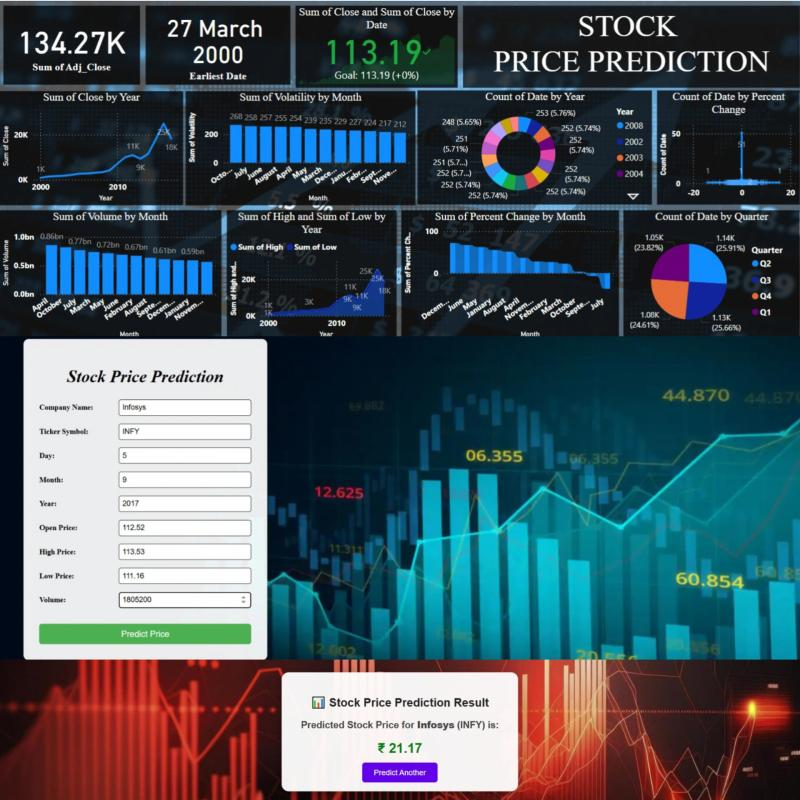

What the dashboard file says about the page in this screenshot:
{"tool":"powerbi","page":{"name":"Page 1","canvas":[1280,720],"ordinal":0},"visuals":[{"type":"lineChart","fields":{"Category":["EW-MAX.Date.Variation.Date Hierarchy.Year","EW-MAX.Date.Variation.Date Hierarchy.Quarter","EW-MAX.Date.Variation.Date Hierarchy.Month","EW-MAX.Date.Variation.Date Hierarchy.Day"],"Y":["Sum(EW-MAX.Close)"]},"box":[8.8,145.1,289.2,179.2],"z":0},{"type":"areaChart","fields":{"Category":["EW-MAX.Date.Variation.Date Hierarchy.Year","EW-MAX.Date.Variation.Date Hierarchy.Quarter","EW-MAX.Date.Variation.Date Hierarchy.Month","EW-MAX.Date.Variation.Date Hierarchy.Day"],"Y":["Sum(EW-MAX.High)","Sum(EW-MAX.Low)"]},"box":[366.2,332.1,266.1,205.6],"z":1000},{"type":"columnChart","fields":{"Category":["EW-MAX.Month"],"Y":["Sum(EW-MAX.Volume)"]},"box":[8.3,332.1,348.8,206],"z":2000},{"type":"donutChart","fields":{"Category":["EW-MAX.Year"],"Y":["CountNonNull(EW-MAX.Date)"]},"box":[665.2,144,368.4,179.2],"z":3000},{"type":"waterfallChart","fields":{"Category":["EW-MAX.Date.Variation.Date Hierarchy.Year","EW-MAX.Date.Variation.Date Hierarchy.Quarter","EW-MAX.Date.Variation.Date Hierarchy.Month","EW-MAX.Date.Variation.Date Hierarchy.Day"],"Y":["Sum(EW-MAX.Daily Change)"]},"box":[323.8,548.8,316.7,161.9],"z":4000},{"type":"lineChart","fields":{"Category":["EW-MAX.Percent Change"],"Y":["CountNonNull(EW-MAX.Date)"]},"box":[1041.3,144,224.3,179.2],"z":5000},{"type":"clusteredColumnChart","fields":{"Category":["EW-MAX.Close"],"Y":["CountNonNull(EW-MAX.Weekday)"]},"box":[8.3,548.8,304.8,161.9],"z":6000},{"type":"ribbonChart","fields":{"Category":["EW-MAX.Month"],"Y":["Sum(EW-MAX.Percent Change)"]},"box":[640,332.1,342,205.6],"z":7000},{"type":"pieChart","fields":{"Category":["EW-MAX.Quarter"],"Y":["CountNonNull(EW-MAX.Date)"]},"box":[988.5,332.1,277.1,205.6],"z":8000},{"type":"columnChart","fields":{"Category":["EW-MAX.Month"],"Y":["Sum(EW-MAX.Volatility)"]},"box":[301.3,145.1,360.7,179.2],"z":9000},{"type":"gauge","fields":{"Y":["Sum(EW-MAX.Volatility)"]},"box":[652.4,548.8,235.7,161.9],"z":10000},{"type":"scatterChart","fields":{"Category":["EW-MAX.Date.Variation.Date Hierarchy.Year","EW-MAX.Date.Variation.Date Hierarchy.Quarter","EW-MAX.Date.Variation.Date Hierarchy.Month","EW-MAX.Date.Variation.Date Hierarchy.Day"],"X":["Sum(EW-MAX.Percent Change)"]},"box":[896.2,548.7,183.6,161.6],"z":11000},{"type":"card","fields":{"Values":["Sum(EW-MAX.Adj_Close)"]},"box":[15.5,10.7,214.3,123.8],"z":12000},{"type":"card","fields":{"Values":["Min(EW-MAX.Date)"]},"box":[238.1,10.7,227.4,123.8],"z":13000},{"type":"kpi","fields":{"Indicator":["Sum(EW-MAX.Close)"],"TrendLine":["EW-MAX.Date"],"Goal":["Sum(EW-MAX.Close)"]},"box":[473.8,10.7,254.8,128.6],"z":14000},{"type":"slicer","fields":{"Values":["EW-MAX.Month","EW-MAX.Date"]},"box":[1088.6,548.7,177,161.6],"z":15000},{"type":"textbox","box":[736.7,11,528.9,128.7],"z":16000}]}

Visuals, with their boxes on the page's 1280x720 design canvas (x1, y1, x2, y2). These are canvas units, not pixel positions in the 800x800 screenshot, which may show the page scaled, cropped or inside an application window:
lineChart - EW-MAX.Date.Variation.Date Hierarchy.Year x EW-MAX.Date.Variation.Date Hierarchy.Quarter: bbox(9, 145, 298, 324)
areaChart - EW-MAX.Date.Variation.Date Hierarchy.Year x EW-MAX.Date.Variation.Date Hierarchy.Quarter: bbox(366, 332, 632, 538)
columnChart - EW-MAX.Month x Sum(EW-MAX.Volume): bbox(8, 332, 357, 538)
donutChart - EW-MAX.Year x CountNonNull(EW-MAX.Date): bbox(665, 144, 1034, 323)
waterfallChart - EW-MAX.Date.Variation.Date Hierarchy.Year x EW-MAX.Date.Variation.Date Hierarchy.Quarter: bbox(324, 549, 640, 711)
lineChart - EW-MAX.Percent Change x CountNonNull(EW-MAX.Date): bbox(1041, 144, 1266, 323)
clusteredColumnChart - EW-MAX.Close x CountNonNull(EW-MAX.Weekday): bbox(8, 549, 313, 711)
ribbonChart - EW-MAX.Month x Sum(EW-MAX.Percent Change): bbox(640, 332, 982, 538)
pieChart - EW-MAX.Quarter x CountNonNull(EW-MAX.Date): bbox(988, 332, 1266, 538)
columnChart - EW-MAX.Month x Sum(EW-MAX.Volatility): bbox(301, 145, 662, 324)
gauge - Sum(EW-MAX.Volatility): bbox(652, 549, 888, 711)
scatterChart - EW-MAX.Date.Variation.Date Hierarchy.Year x EW-MAX.Date.Variation.Date Hierarchy.Quarter: bbox(896, 549, 1080, 710)
card - Sum(EW-MAX.Adj_Close): bbox(16, 11, 230, 134)
card - Min(EW-MAX.Date): bbox(238, 11, 466, 134)
kpi - Sum(EW-MAX.Close) x EW-MAX.Date: bbox(474, 11, 729, 139)
slicer - EW-MAX.Month x EW-MAX.Date: bbox(1089, 549, 1266, 710)
textbox: bbox(737, 11, 1266, 140)
